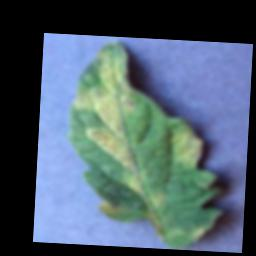Leaf_Mold: (66, 38, 155, 195), (169, 124, 206, 165), (97, 200, 124, 214), (148, 191, 166, 208)
